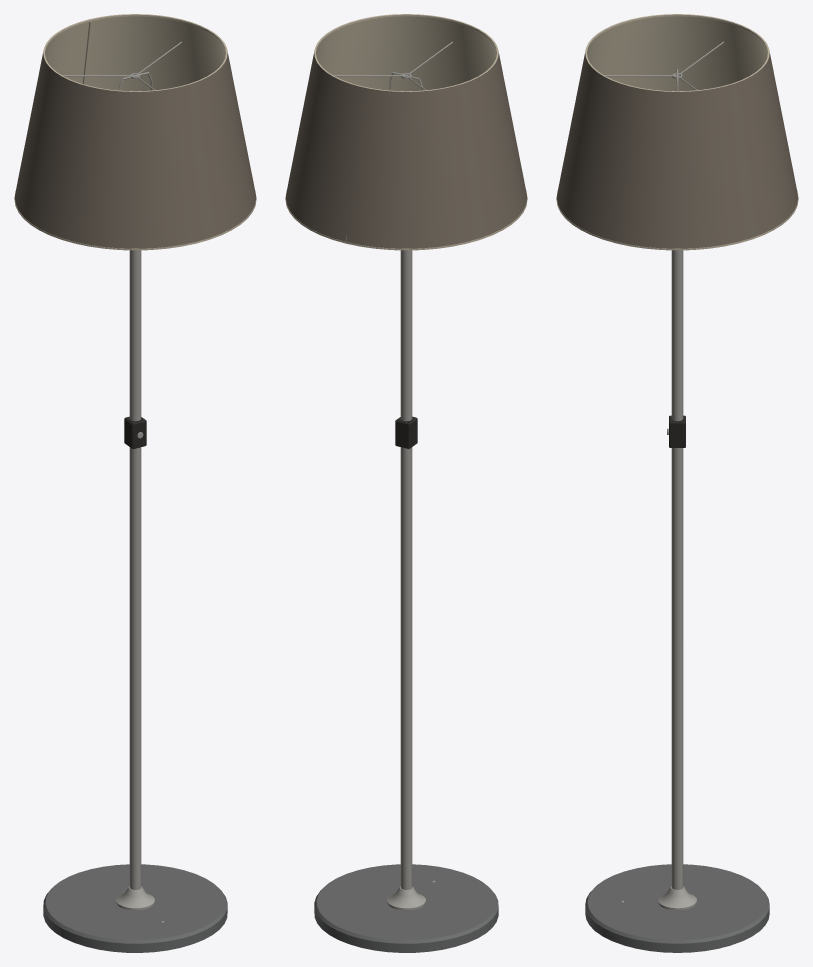
Rendered from floor-lamp-6f1e1b5b5436.glb.
3 views of the same model, side by side, from view 1: azimuth 30°, elevation 25°; view 2: azimuth 150°, elevation 25°; view 3: azimuth 270°, elevation 25° (orthographic).
Visible parts, largest first — view 1: cover-cloth, metal, cloth-cream, brushed, plastic-dark; view 2: cover-cloth, metal, cloth-cream, brushed, plastic-dark; view 3: cover-cloth, metal, cloth-cream, brushed.
Part boxes in pixels (box(x1,y1,x2,y2)): cover-cloth: box(14, 52, 256, 250); metal: box(43, 864, 227, 952); cloth-cream: box(14, 14, 256, 250); brushed: box(62, 41, 181, 922); plastic-dark: box(124, 416, 146, 448); cover-cloth: box(285, 52, 527, 250); metal: box(314, 864, 498, 952); cloth-cream: box(285, 14, 527, 250); brushed: box(333, 41, 452, 910); plastic-dark: box(395, 416, 417, 448); cover-cloth: box(556, 52, 798, 250); metal: box(585, 864, 769, 952); cloth-cream: box(556, 14, 798, 250); brushed: box(604, 41, 723, 910).
Bounding box in the file's own units: 0.4201 × 1.65 × 0.4201.
